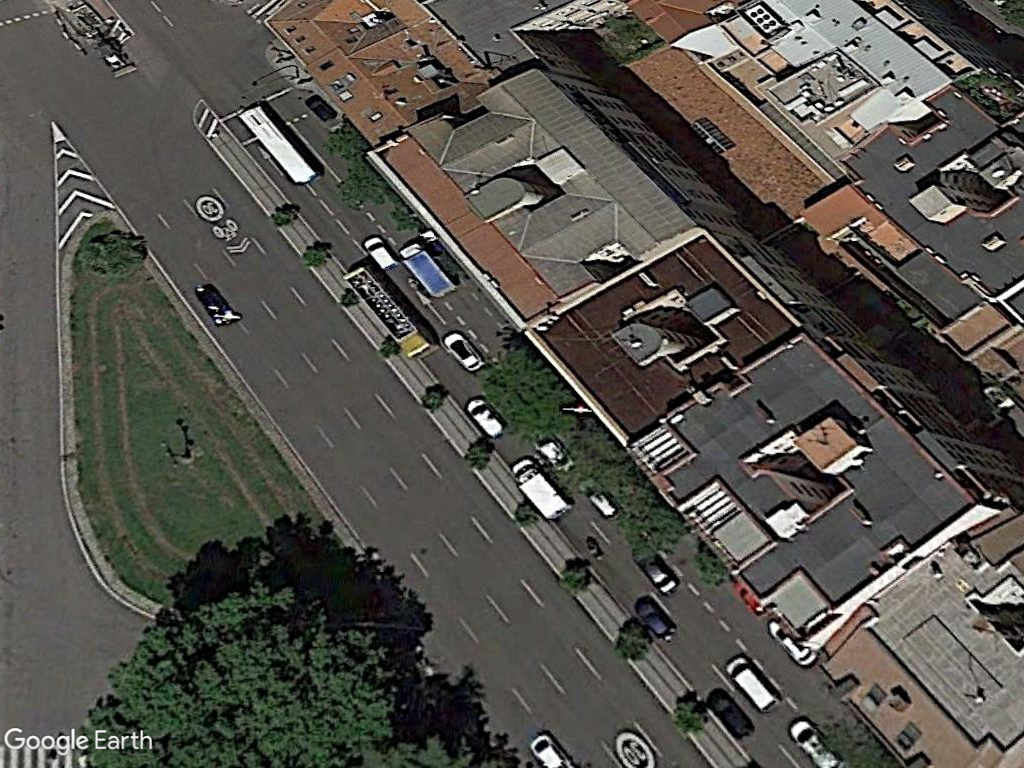bus: (231, 101, 319, 188)
car: (631, 595, 679, 644), (439, 330, 486, 373), (462, 395, 505, 440), (359, 235, 399, 273)
truck: (508, 455, 572, 522), (397, 241, 454, 303)
van: (722, 652, 782, 716)
